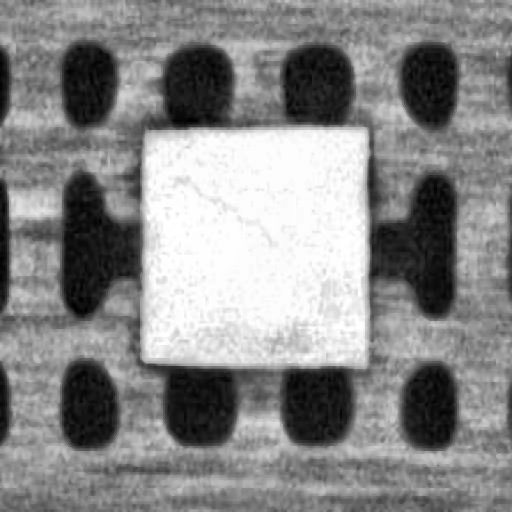DIE_CRACK: (177, 170, 278, 246)
